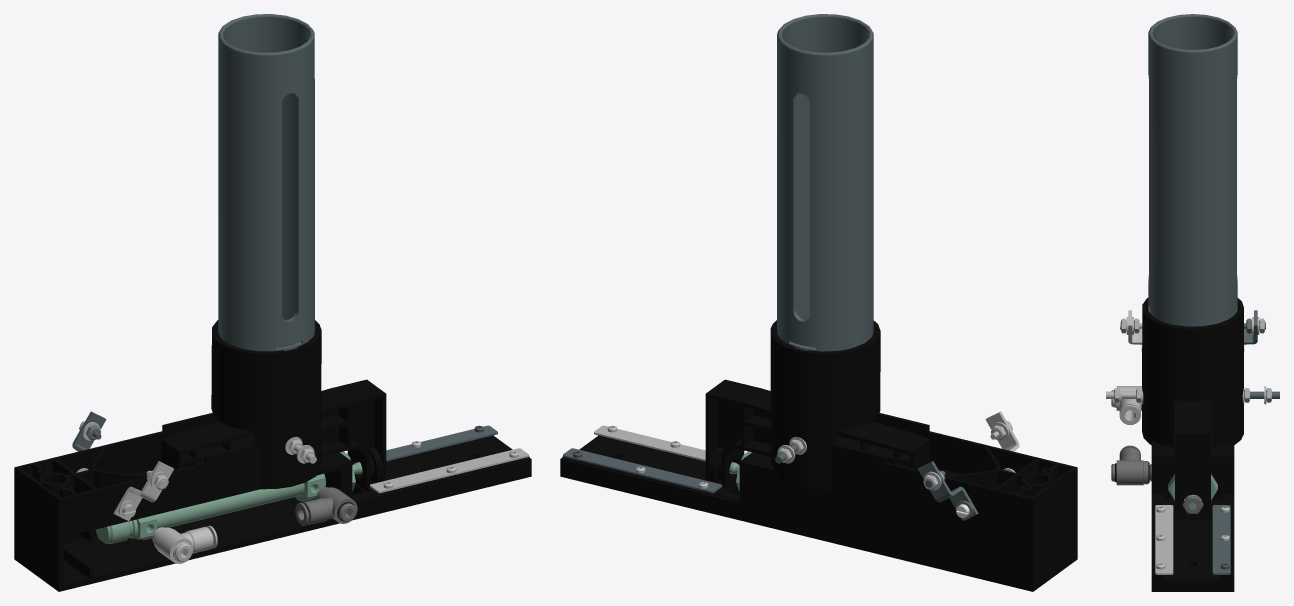
Rendered from Lager.fbx.
3 views of the same model, side by side, from view 1: azimuth 30°, elevation 25°; view 2: azimuth 150°, elevation 25°; view 3: azimuth 270°, elevation 25° (orthographic). The views are drawn at different scales.
Visible parts, largest first — view 1: et_3999_Lager_Gehause_body1_2, et_3998_Lager_Fuhrung_body1_2, et_3997_Lager_Stempel_body1_2, et_3971_Lager_Zylinder_body1_2, et_3927_Lager_NPQM-LK_body1_4, et_3927_Lager_NPQM-LK_body1_3, et_3996_Lager_Stempelfuhrung_body1_4, et_3996_Lager_Stempelfuhrung_body1_3, et_3992_Lager_Winkel_body1_4, bg_3100_Lager; view 2: et_3999_Lager_Gehause_body1_2, et_3998_Lager_Fuhrung_body1_2, et_3997_Lager_Stempel_body1_2, et_3996_Lager_Stempelfuhrung_body1_3, et_3996_Lager_Stempelfuhrung_body1_4, et_3992_Lager_Winkel_body1_3, bg_3100_Lager; view 3: et_3998_Lager_Fuhrung_body1_2, et_3999_Lager_Gehause_body1_2, et_3997_Lager_Stempel_body1_2, et_3927_Lager_NPQM-LK_body1_3, et_3996_Lager_Stempelfuhrung_body1_3, et_3996_Lager_Stempelfuhrung_body1_4, et_3927_Lager_NPQM-LK_body1_4, bg_3100_Lager, et_3992_Lager_Winkel_body1_4, et_3994_Lager_Schlusselweite_10_Innen_M3_body1_2, et_3992_Lager_Winkel_body1_3, et_3972_Lager_DIN_439_M16_body1_2.
Part boxes in pixels (box(x1,y1,x2,y2)): et_3999_Lager_Gehause_body1_2: box(14, 320, 531, 591); et_3998_Lager_Fuhrung_body1_2: box(218, 14, 314, 351); et_3997_Lager_Stempel_body1_2: box(161, 379, 386, 491); et_3971_Lager_Zylinder_body1_2: box(95, 474, 325, 544); et_3927_Lager_NPQM-LK_body1_4: box(152, 525, 217, 563); et_3927_Lager_NPQM-LK_body1_3: box(295, 487, 357, 525); et_3996_Lager_Stempelfuhrung_body1_4: box(370, 448, 528, 493); et_3996_Lager_Stempelfuhrung_body1_3: box(386, 425, 497, 461); et_3992_Lager_Winkel_body1_4: box(113, 461, 173, 520); bg_3100_Lager: box(76, 422, 314, 519); et_3999_Lager_Gehause_body1_2: box(560, 320, 1077, 591); et_3998_Lager_Fuhrung_body1_2: box(777, 14, 873, 351); et_3997_Lager_Stempel_body1_2: box(705, 379, 930, 491); et_3996_Lager_Stempelfuhrung_body1_3: box(563, 448, 721, 493); et_3996_Lager_Stempelfuhrung_body1_4: box(594, 425, 705, 461); et_3992_Lager_Winkel_body1_3: box(918, 461, 978, 520); bg_3100_Lager: box(777, 422, 1015, 519); et_3998_Lager_Fuhrung_body1_2: box(1148, 14, 1237, 326); et_3999_Lager_Gehause_body1_2: box(1142, 298, 1243, 591); et_3997_Lager_Stempel_body1_2: box(1173, 400, 1212, 519); et_3927_Lager_NPQM-LK_body1_3: box(1111, 445, 1151, 485); et_3996_Lager_Stempelfuhrung_body1_3: box(1212, 505, 1230, 574); et_3996_Lager_Stempelfuhrung_body1_4: box(1155, 505, 1173, 574); et_3927_Lager_NPQM-LK_body1_4: box(1111, 386, 1141, 425); bg_3100_Lager: box(1119, 317, 1266, 404); et_3992_Lager_Winkel_body1_4: box(1128, 310, 1142, 344); et_3994_Lager_Schlusselweite_10_Innen_M3_body1_2: box(1182, 495, 1203, 513); et_3992_Lager_Winkel_body1_3: box(1244, 310, 1257, 344); et_3972_Lager_DIN_439_M16_body1_2: box(1168, 474, 1217, 500).
Size of the model in its own units: 28.2 by 9.7 by 27.7.
